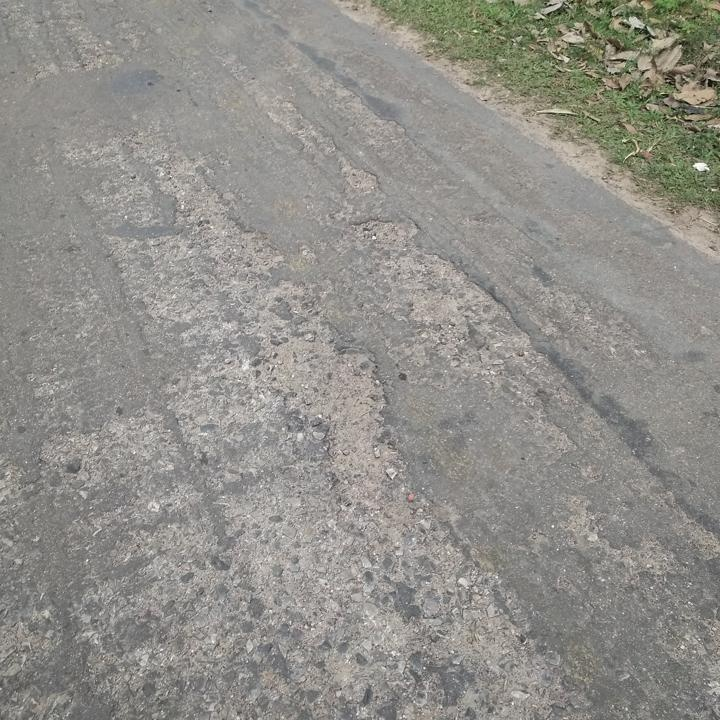pothole: (343, 209, 527, 358), (258, 322, 401, 486)
